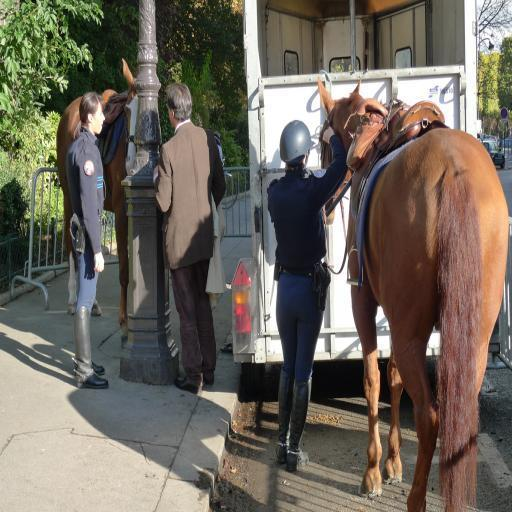horse: (315, 74, 511, 512), (55, 56, 140, 336)
